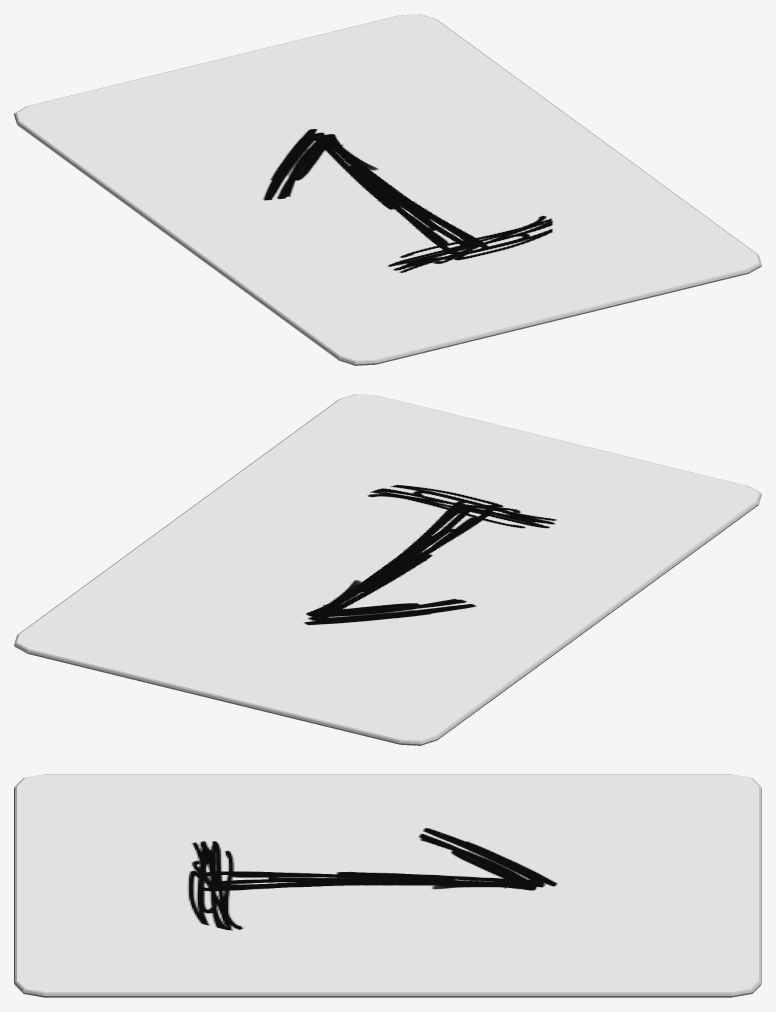
Rendered from Card.obj.
3 renders of one model, top to bottom at view 1: azimuth 30°, elevation 25°; view 2: azimuth 150°, elevation 25°; view 3: azimuth 270°, elevation 25°, orthographic. The views are drawn at different scales.
Parts seen in each view (by area): view 1: Cube; view 2: Cube; view 3: Cube.
Boxes of the visible parts, x1,y1,x2,y2 form: Cube: [14, 14, 761, 365]; Cube: [14, 394, 761, 745]; Cube: [14, 774, 761, 997].
Size of the model in its own units: 3.48 by 0.04 by 5.
